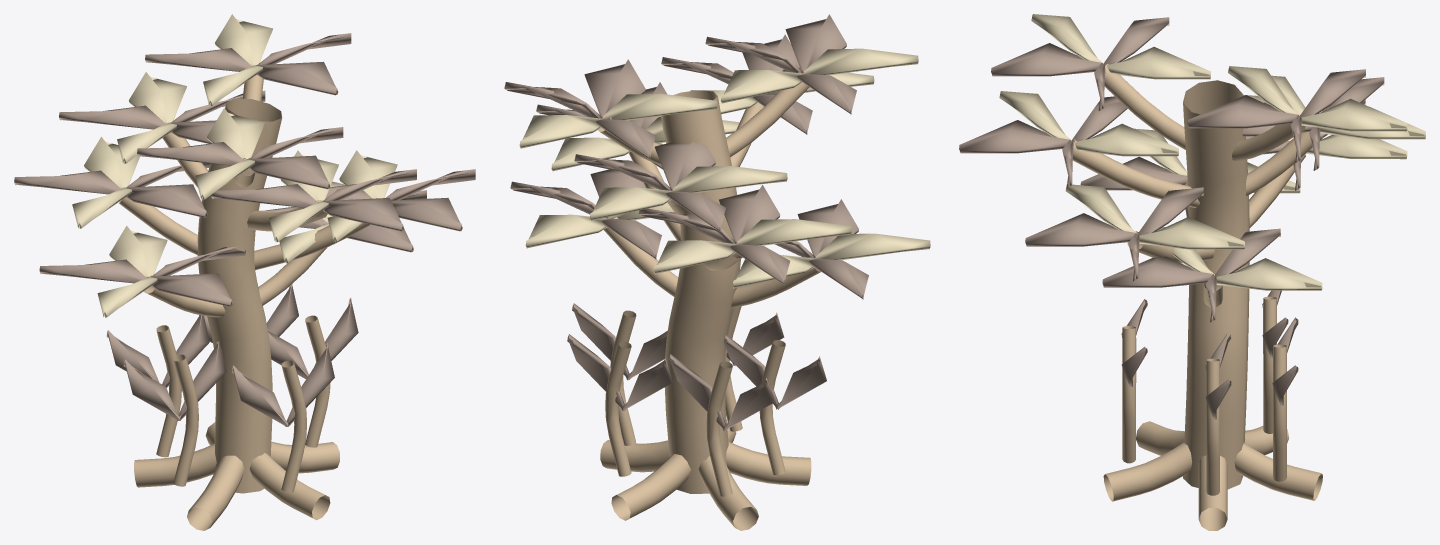
File: bio_canopy_tree_12_far.glb
3 renders of one model, left to right at view 1: azimuth 30°, elevation 25°; view 2: azimuth 150°, elevation 25°; view 3: azimuth 270°, elevation 25°, orthographic. The views are drawn at different scales.
Visible parts, largest first — view 1: Buttressed trunk, Broad canopy leaf.035, Broad canopy leaf.015, Broad canopy leaf.010, Broad canopy leaf.020, Broad canopy leaf.005, Broad canopy leaf.030, Broad canopy leaf.021, Broad canopy leaf.036, Broad canopy leaf.016, Broad canopy leaf.025, Broad canopy leaf.031 (+14 smaller); view 2: Buttressed trunk, Broad canopy leaf.015, Broad canopy leaf.035, Broad canopy leaf.005, Broad canopy leaf.030, Broad canopy leaf.006, Broad canopy leaf.031, Broad canopy leaf.016, Broad canopy leaf.036, Broad canopy leaf.021, Broad canopy leaf, Broad canopy leaf.020 (+15 smaller); view 3: Buttressed trunk, Broad canopy leaf.035, Broad canopy leaf.015, Broad canopy leaf.025, Broad canopy leaf, Broad canopy leaf.010, Broad canopy leaf.016, Broad canopy leaf.011, Broad canopy leaf.026, Broad canopy leaf.036, Broad canopy leaf.001, Broad canopy leaf.006 (+12 smaller).
Boxes of the visible parts, box(x1,y1,x2,y2) form: Buttressed trunk: box(119, 75, 370, 530); Broad canopy leaf.035: box(137, 127, 343, 189); Broad canopy leaf.015: box(145, 33, 351, 95); Broad canopy leaf.010: box(211, 169, 416, 231); Broad canopy leaf.020: box(39, 246, 245, 306); Broad canopy leaf.005: box(14, 162, 209, 217); Broad canopy leaf.030: box(59, 90, 265, 143); Broad canopy leaf.021: box(97, 225, 167, 317); Broad canopy leaf.036: box(195, 108, 265, 199); Broad canopy leaf.016: box(203, 14, 272, 106); Broad canopy leaf.025: box(325, 169, 475, 231); Broad canopy leaf.031: box(117, 72, 186, 163); Buttressed trunk: box(598, 71, 820, 530); Broad canopy leaf.015: box(504, 59, 655, 159); Broad canopy leaf.035: box(705, 14, 856, 114); Broad canopy leaf.005: box(638, 185, 789, 284); Broad canopy leaf.030: box(574, 141, 725, 232); Broad canopy leaf.006: box(654, 219, 851, 273); Broad canopy leaf.031: box(589, 166, 787, 220); Broad canopy leaf.016: box(519, 93, 717, 148); Broad canopy leaf.036: box(720, 48, 918, 103); Broad canopy leaf.021: box(732, 233, 930, 288); Broad canopy leaf: box(510, 169, 661, 259); Broad canopy leaf.020: box(775, 199, 868, 299); Buttressed trunk: box(1072, 64, 1322, 530); Broad canopy leaf.035: box(991, 17, 1169, 110); Broad canopy leaf.015: box(1187, 69, 1365, 163); Broad canopy leaf.025: box(1025, 187, 1203, 281); Broad canopy leaf: box(1102, 228, 1280, 322); Broad canopy leaf.010: box(959, 96, 1127, 187); Broad canopy leaf.016: box(1228, 66, 1407, 131); Broad canopy leaf.011: box(999, 91, 1178, 156); Broad canopy leaf.026: box(1065, 184, 1244, 249); Broad canopy leaf.036: box(1031, 14, 1210, 79); Broad canopy leaf.001: box(1157, 227, 1322, 290); Broad canopy leaf.006: box(1243, 95, 1407, 159).
Bounding box in the file's own units: 2.97 × 2.99 × 3.05.
